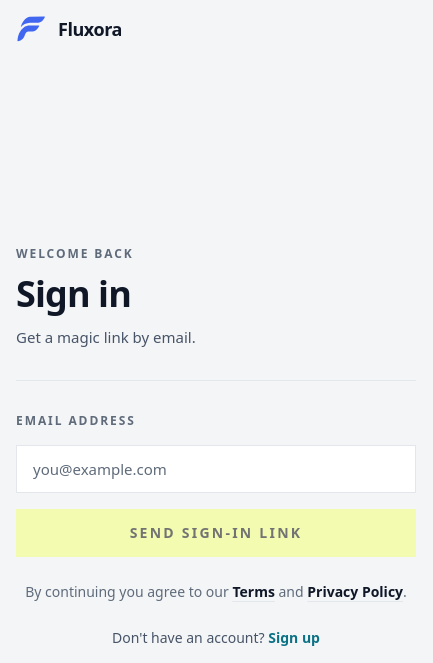
Test case: sign-in page › confirms when a sign-in link was sent
Type "me@example.com" into the field labelled "Email address" at x=216, y=469, box [16, 445, 416, 493]
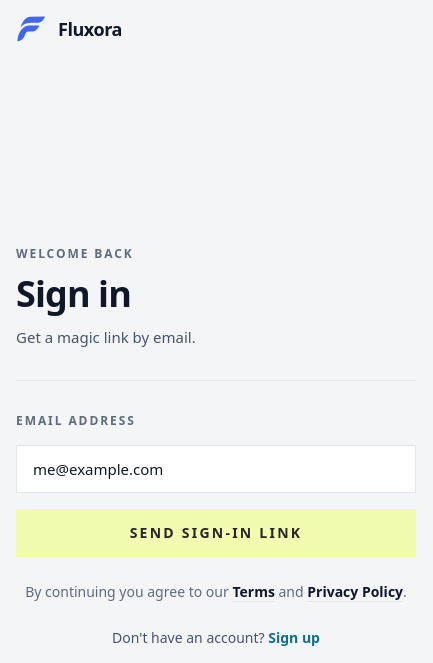
Click the button "Send sign-in link" at x=216, y=533, box [16, 509, 416, 557]
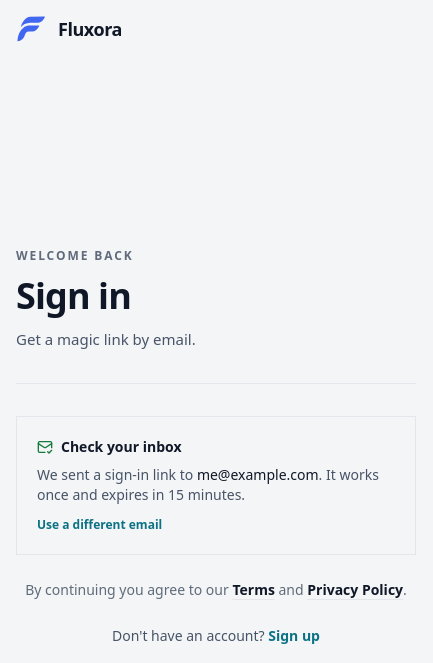
Result: the text "Check your inbox" is shown at [37, 437, 182, 456]
